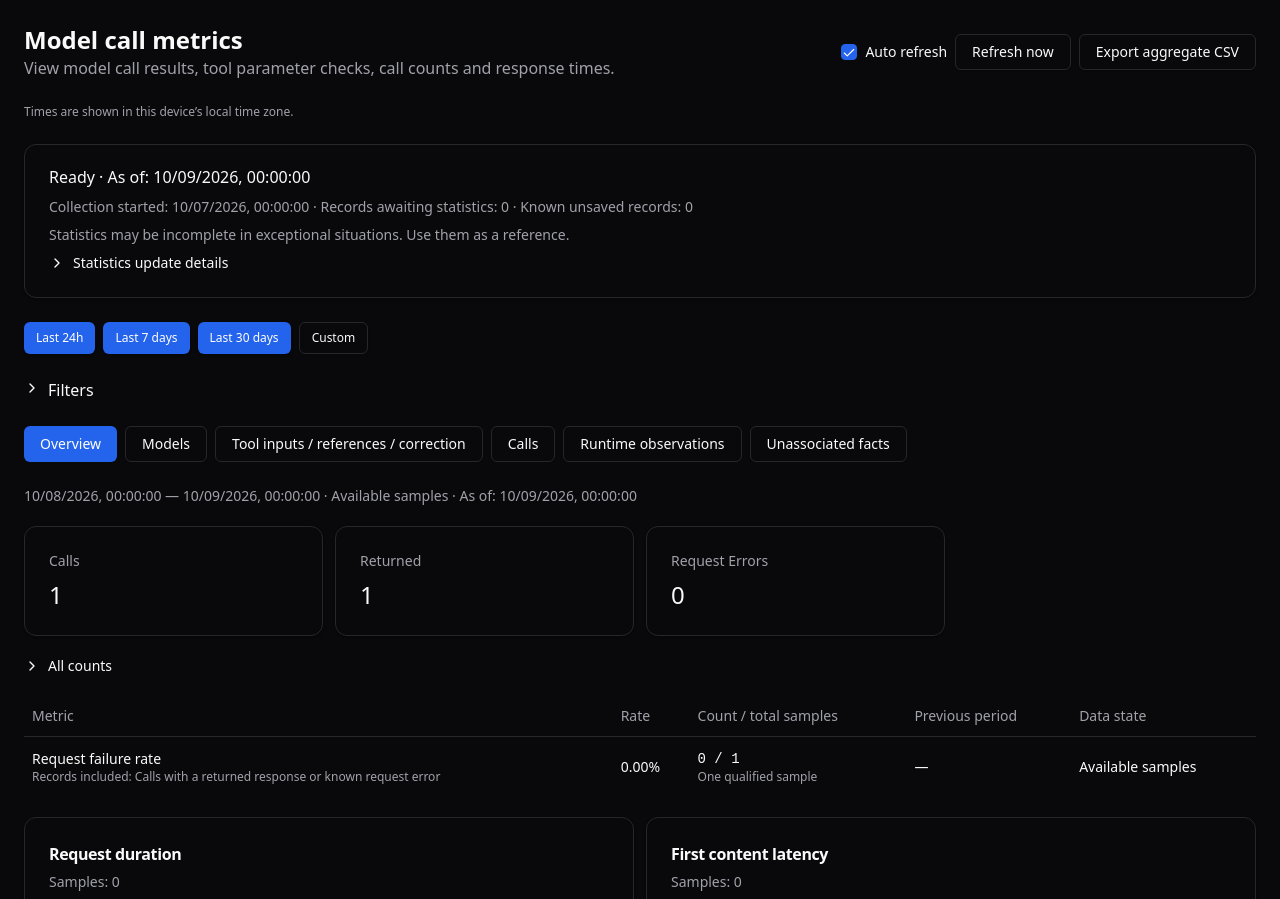
model metric dashboard isolation and attribution › keeps collection forms on the settings page and shows local status and detail times
Click the checkbox named "Auto refresh". click: click(849, 52)
box: [841,44,857,60]
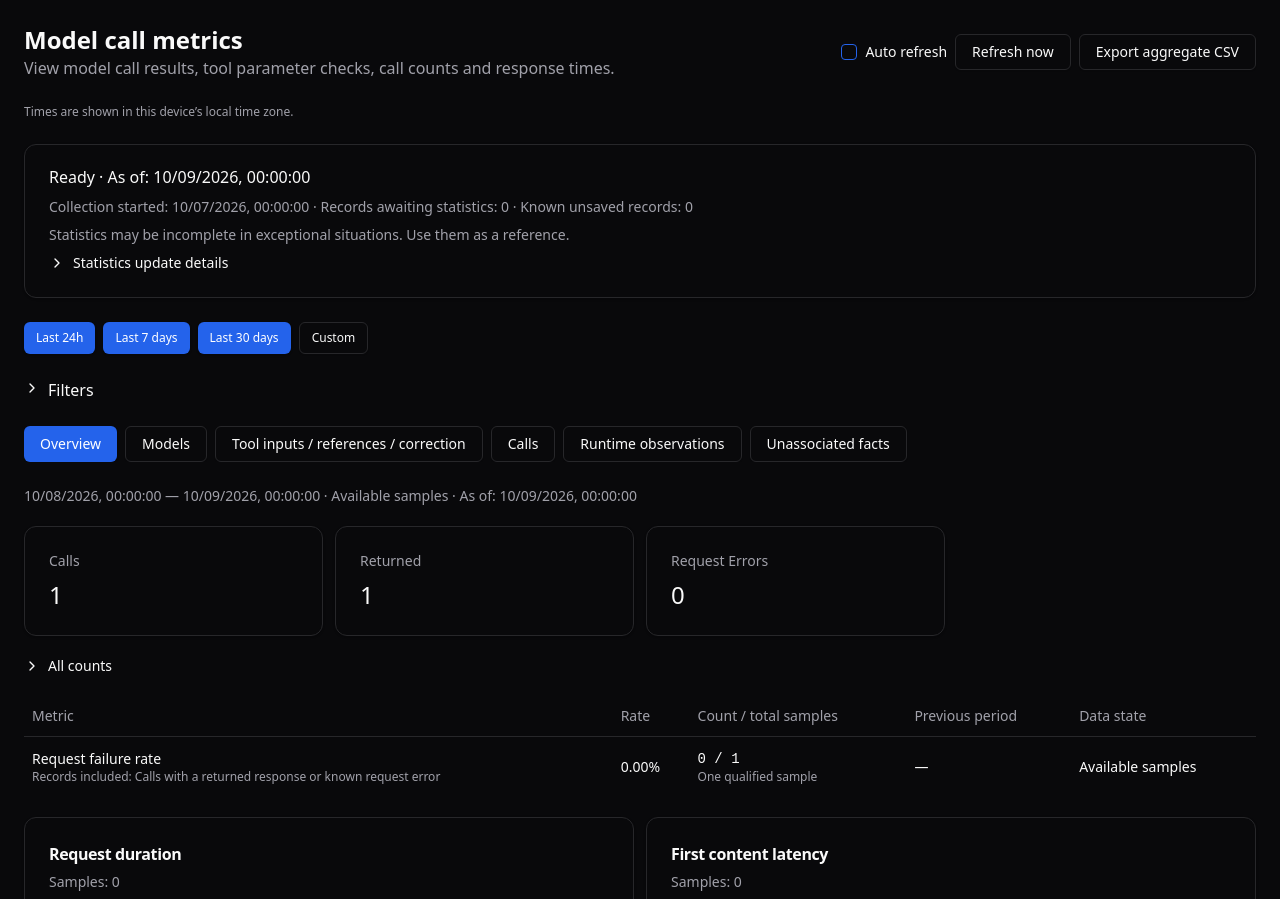
Check: the checkbox named "Auto refresh" is not checked, box [841,44,857,60]
Click the tab "Calls". click: click(523, 444)
box: [491,426,555,462]
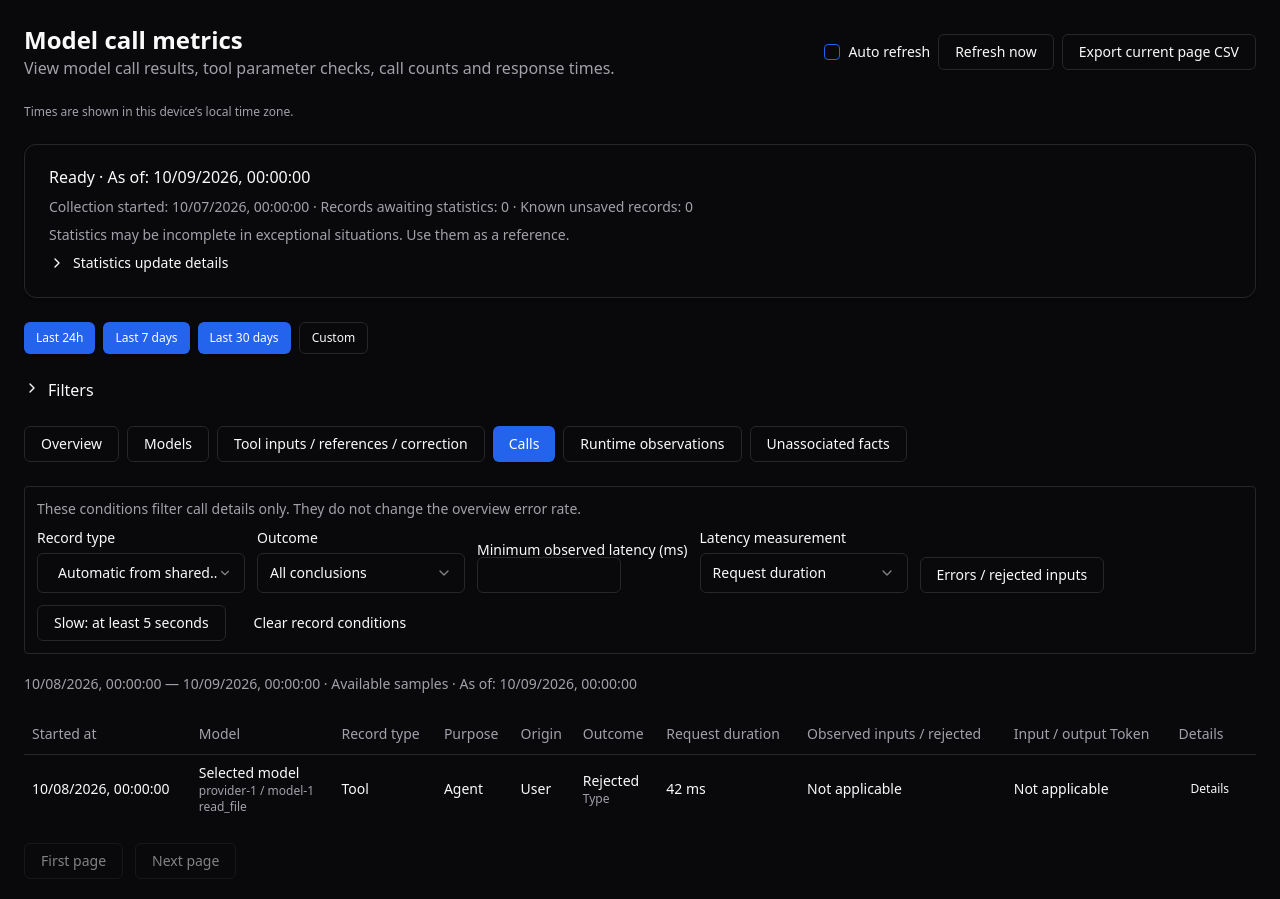
Check: the text "Selected model" is shown, box [199,762,300,782]
